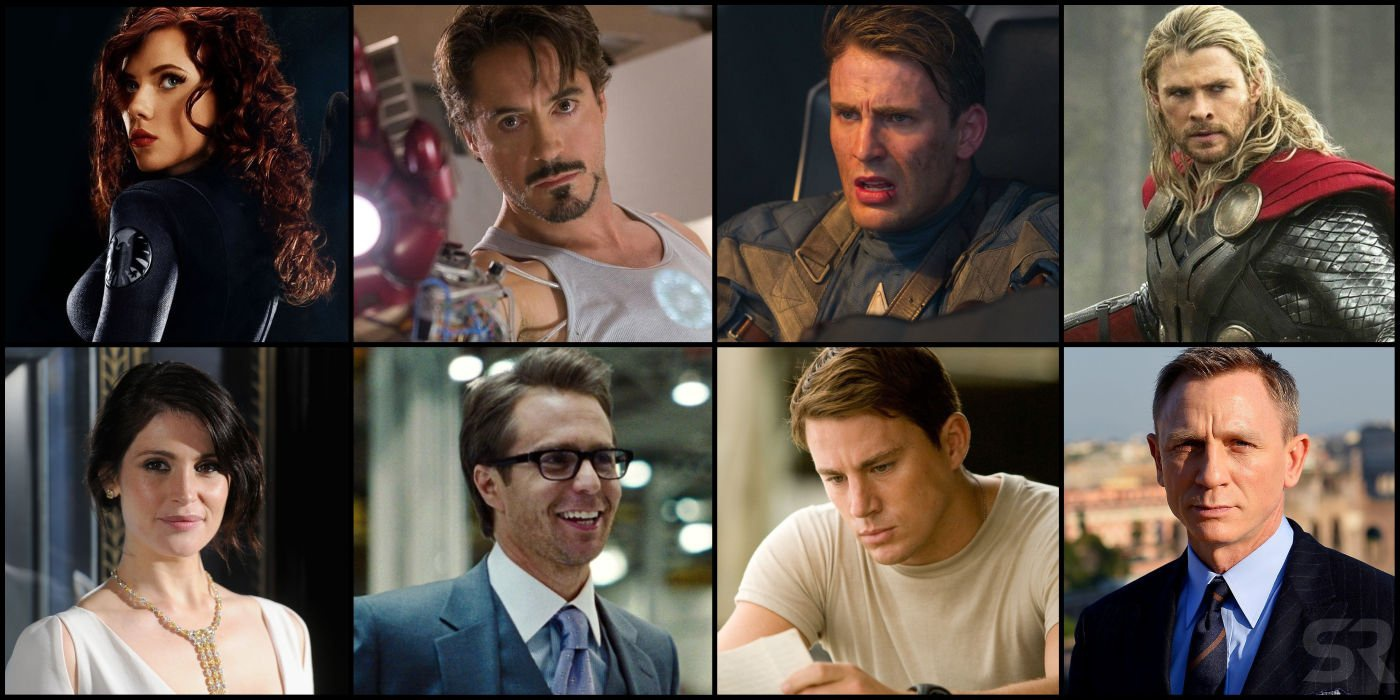bad: (1130, 391, 1285, 546), (511, 426, 640, 555), (812, 82, 941, 211), (81, 39, 210, 168), (483, 82, 612, 211), (798, 426, 927, 555), (127, 438, 235, 546), (1142, 56, 1250, 163)
